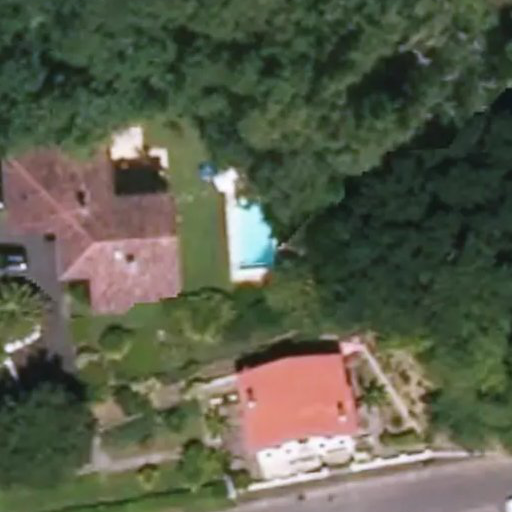pool: (235, 205, 276, 278)
